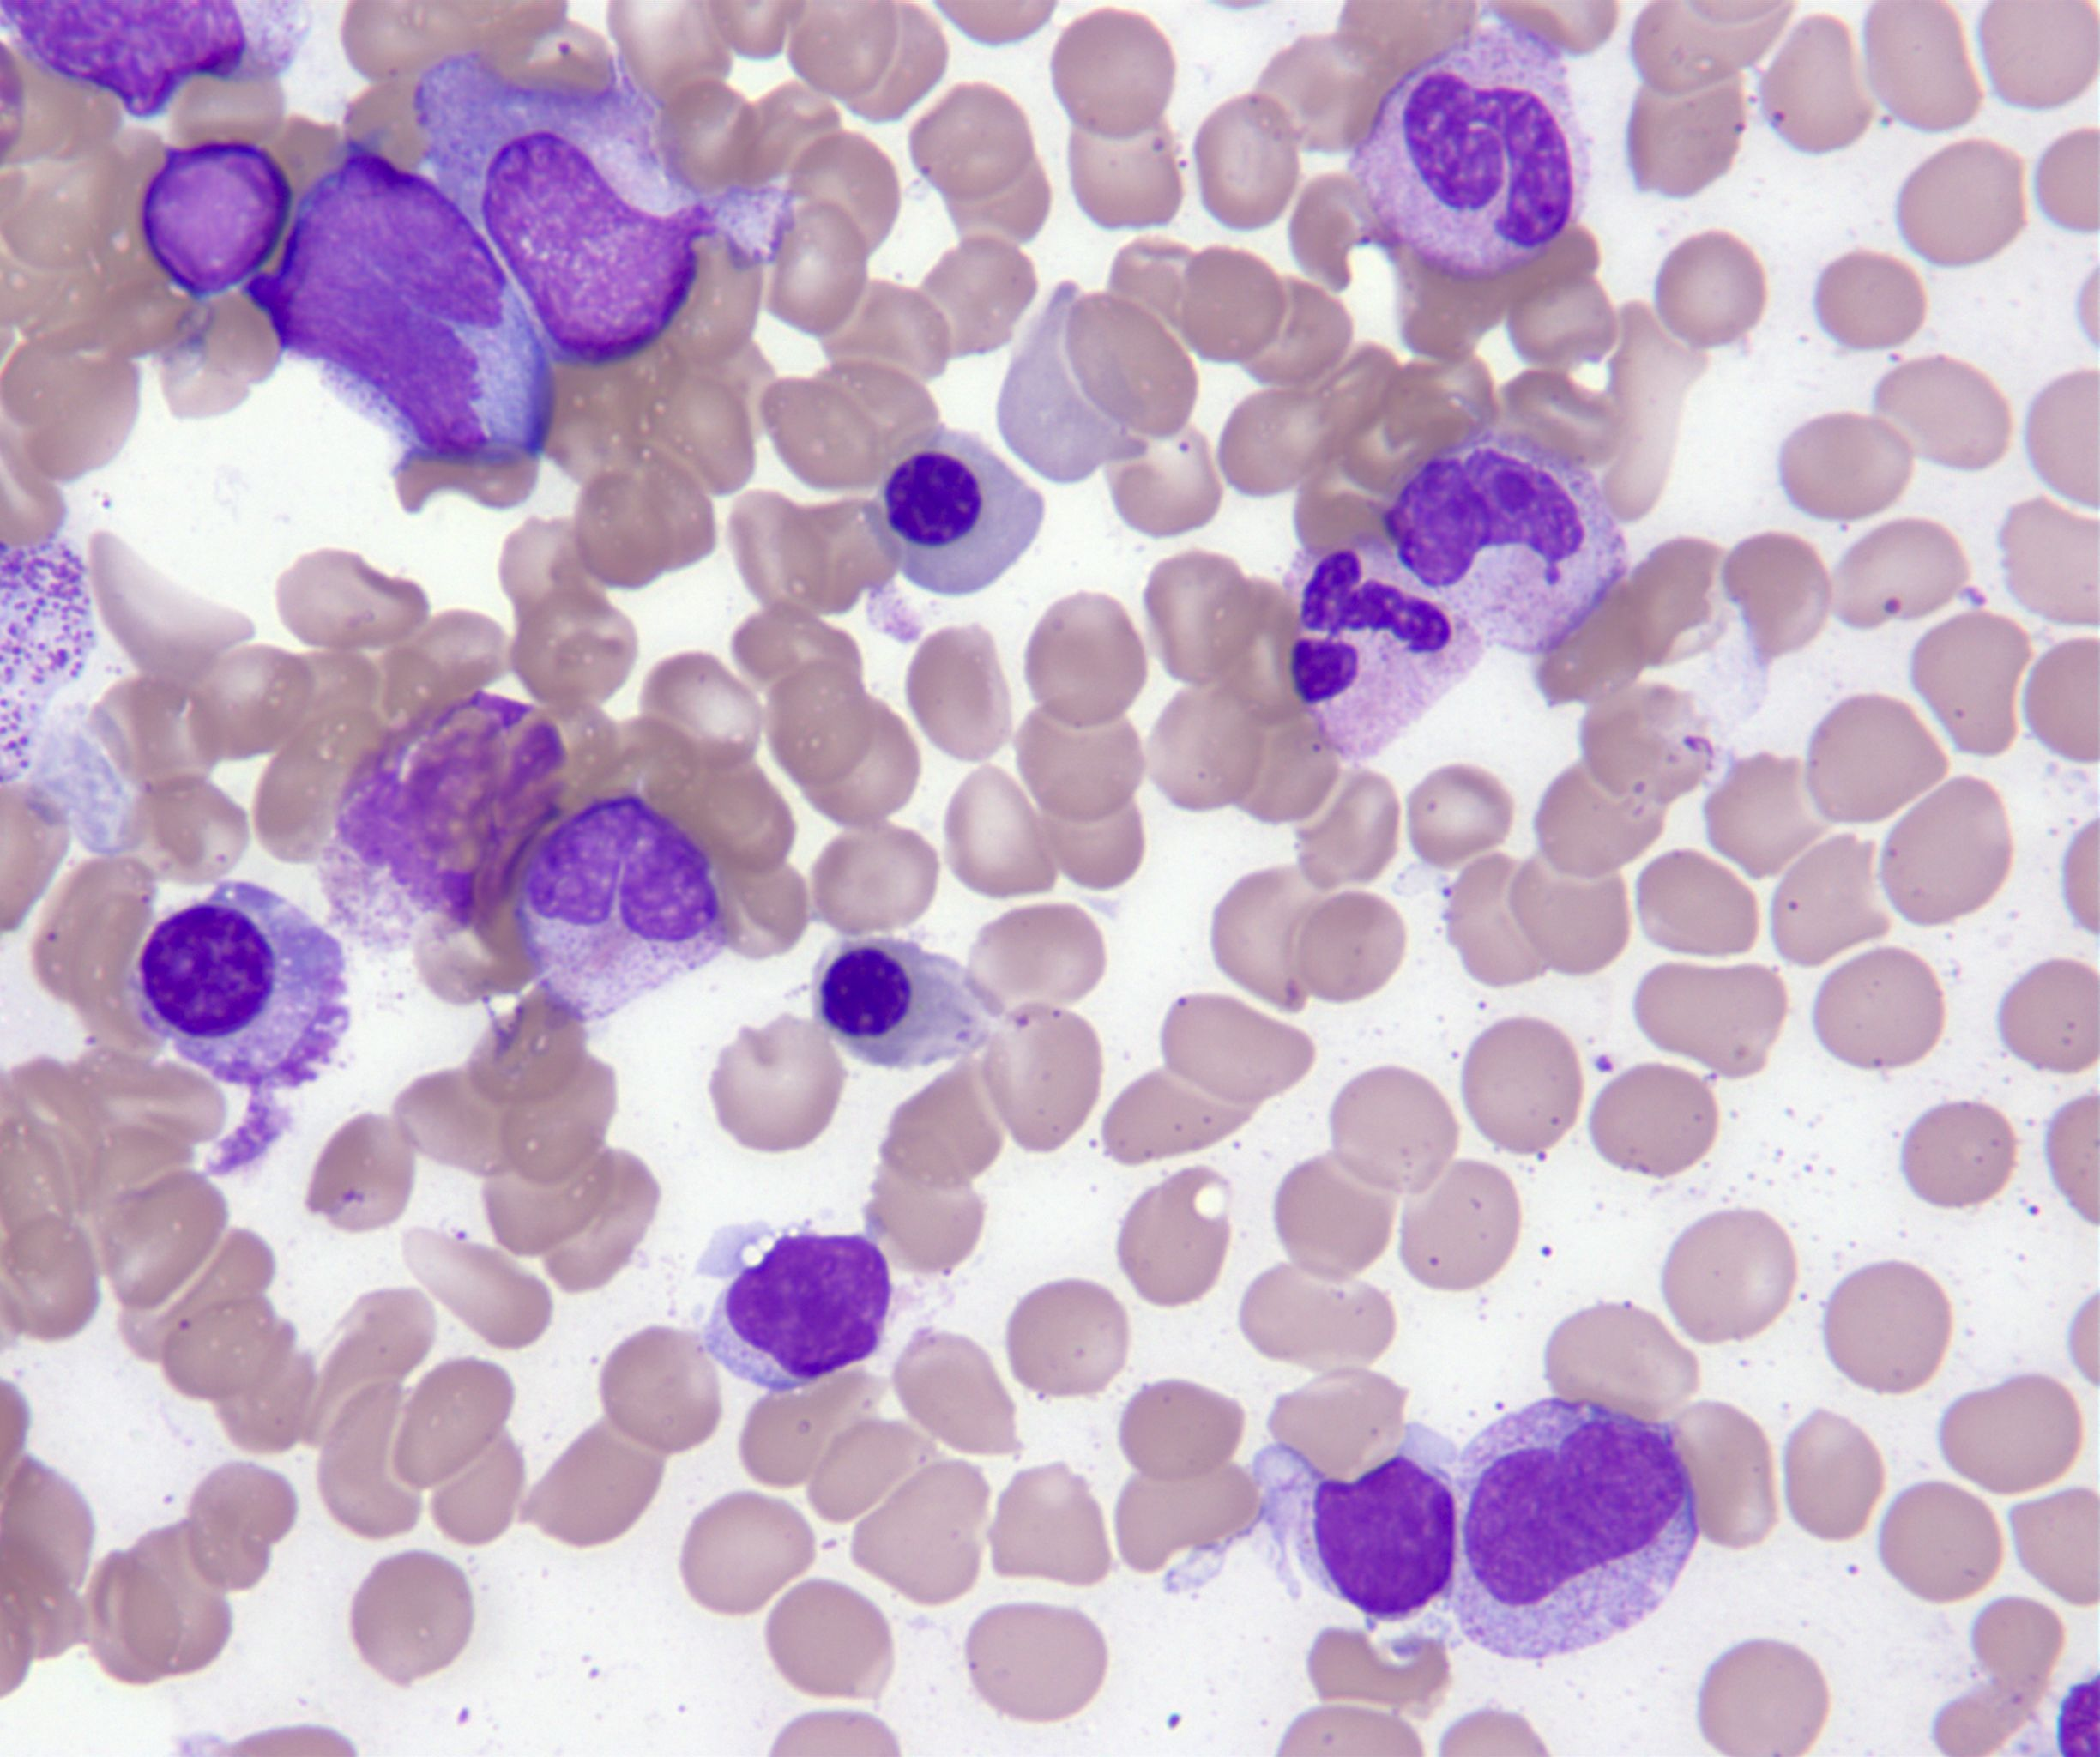24: (860, 429, 1045, 597), (811, 933, 1005, 1068)
3: (415, 58, 794, 368), (241, 138, 555, 466)
32: (1244, 1424, 1458, 1635), (703, 1234, 893, 1394), (143, 141, 291, 297)
4: (1439, 1399, 1695, 1661), (1387, 429, 1627, 653), (516, 797, 726, 1033)
5: (1348, 28, 1585, 277)
6: (1277, 536, 1486, 761)
x: (316, 691, 565, 960), (126, 881, 347, 1089), (0, 0, 310, 120)
